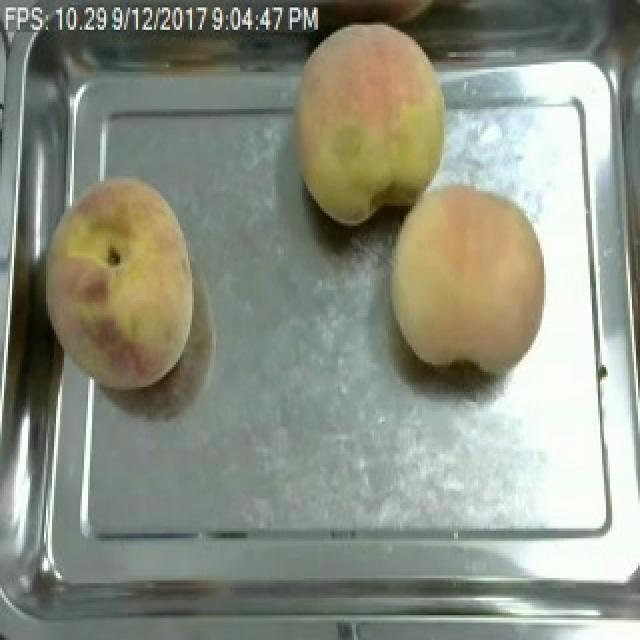Fruit: (30, 169, 202, 399), (280, 15, 458, 236), (376, 174, 554, 377)
